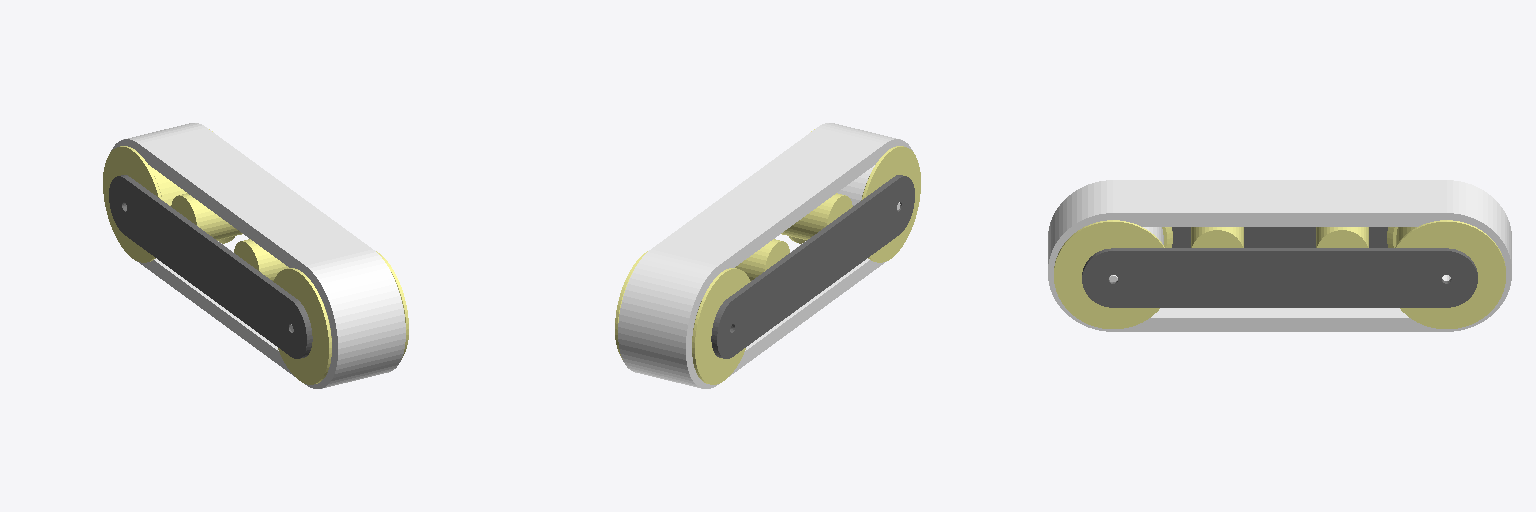
Rendered from brazo_izq_trasero_v2.obj.
The picture shows the model from 3 angles: view 1: azimuth 30°, elevation 25°; view 2: azimuth 150°, elevation 25°; view 3: azimuth 270°, elevation 25°; orthographic projection.
Visible parts, largest first — view 1: Object.1; view 2: Object.1; view 3: Object.1.
Part boxes in pixels (x1,y1,x2,y2): Object.1: (103, 123, 408, 388); Object.1: (615, 123, 920, 388); Object.1: (1048, 180, 1511, 331).
Size of the model in its own units: 107 by 126 by 446.